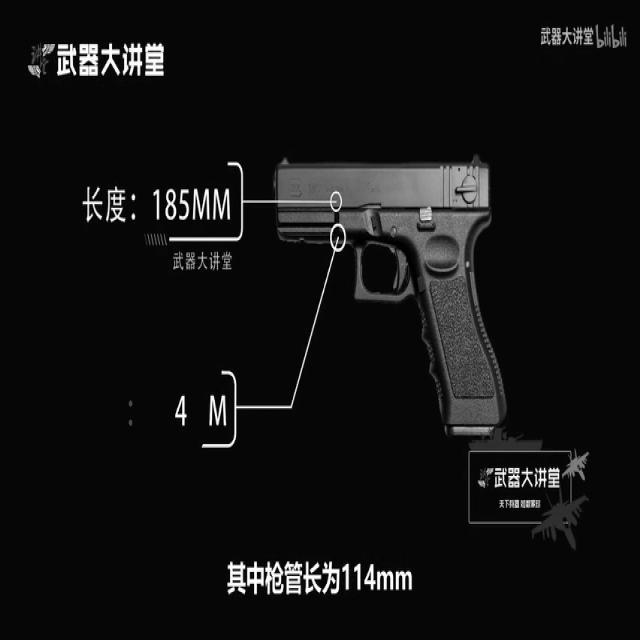Hand-Gun: (236, 65, 554, 549)
